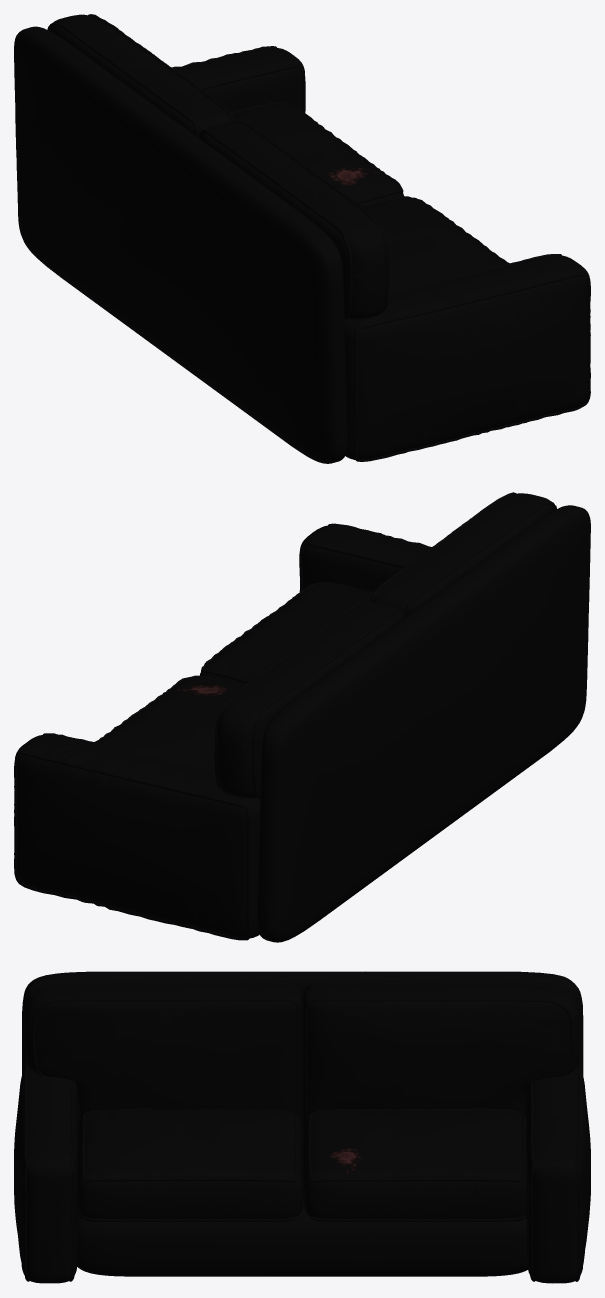
The model's file is Sofa.glb.
The picture shows the model from 3 angles, top to bottom: view 1: azimuth 30°, elevation 25°; view 2: azimuth 150°, elevation 25°; view 3: azimuth 270°, elevation 25°; orthographic projection. The views are drawn at different scales.
Parts seen in each view (by area): view 1: Sofa_LOD0; view 2: Sofa_LOD0; view 3: Sofa_LOD0.
Part boxes in pixels (x1=…): Sofa_LOD0: x1=14, y1=14, x2=590, y2=463; Sofa_LOD0: x1=14, y1=492, x2=590, y2=942; Sofa_LOD0: x1=14, y1=971, x2=590, y2=1283.
Bounding box in the file's own units: 247 × 197 × 500.
Materials: 1 (1 with a texture image).
